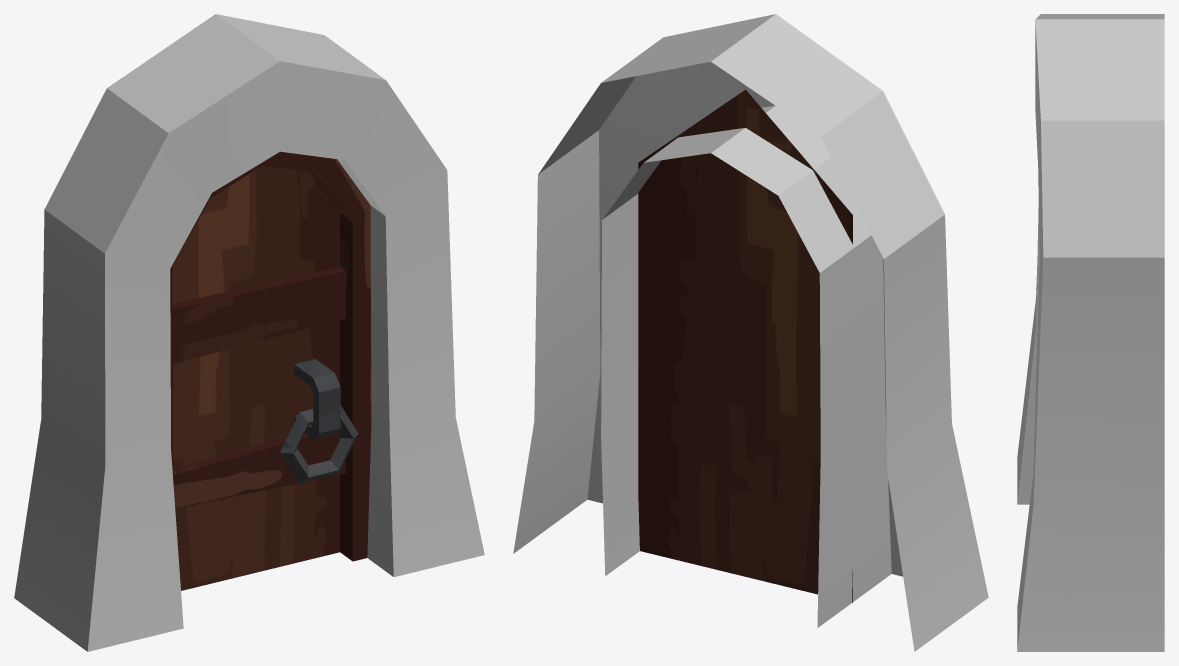
The model's file is SM_BLD_door_v04_01.fbx.
3 views of the same model, side by side, from view 1: azimuth 30°, elevation 25°; view 2: azimuth 150°, elevation 25°; view 3: azimuth 270°, elevation 25° (orthographic).
Visible parts, largest first — view 1: SM_BLD_door_v04_01; view 2: SM_BLD_door_v04_01; view 3: SM_BLD_door_v04_01.
Boxes of the visible parts, box(x1,y1,x2,y2) form: SM_BLD_door_v04_01: box(14, 14, 484, 651); SM_BLD_door_v04_01: box(513, 14, 988, 651); SM_BLD_door_v04_01: box(1017, 14, 1164, 651).
Bounding box in the file's own units: 221 × 284 × 70.8.
